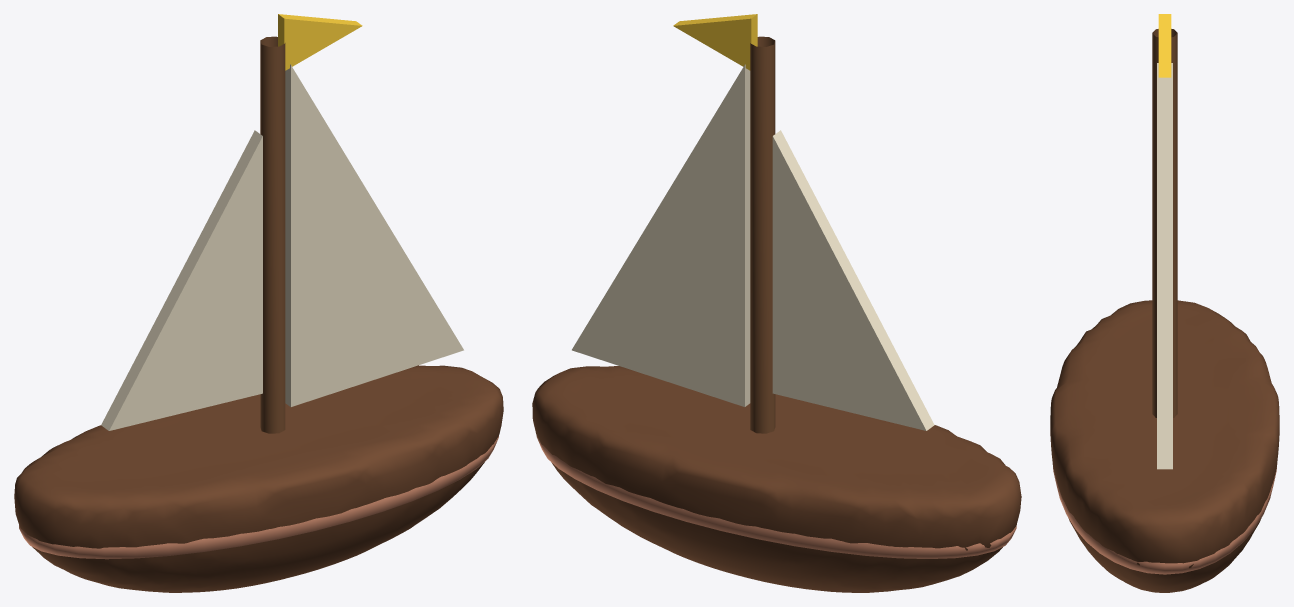
Rendered from MessyMemoryBoat.obj.
The picture shows the model from 3 angles, left to right: view 1: azimuth 30°, elevation 25°; view 2: azimuth 150°, elevation 25°; view 3: azimuth 270°, elevation 25°; orthographic projection.
Visible parts, largest first — view 1: Hull, Sail, Mast, Stripe, Flag; view 2: Hull, Sail, Mast, Stripe, Flag; view 3: Hull, Sail, Mast, Stripe, Flag.
Boxes of the visible parts, <box> form: Hull: <box>14,365,503,592</box>; Sail: <box>101,64,463,430</box>; Mast: <box>260,36,285,433</box>; Stripe: <box>19,436,498,559</box>; Flag: <box>278,14,362,70</box>; Hull: <box>532,366,1021,592</box>; Sail: <box>572,64,934,430</box>; Mast: <box>750,36,775,433</box>; Stripe: <box>536,436,1016,558</box>; Flag: <box>673,14,757,70</box>; Hull: <box>1050,300,1279,592</box>; Sail: <box>1157,63,1172,469</box>; Mast: <box>1152,29,1177,417</box>; Stripe: <box>1052,464,1277,574</box>; Flag: <box>1158,14,1171,77</box>.
Size of the model in its own units: 1.69 by 1.88 by 0.7214.
